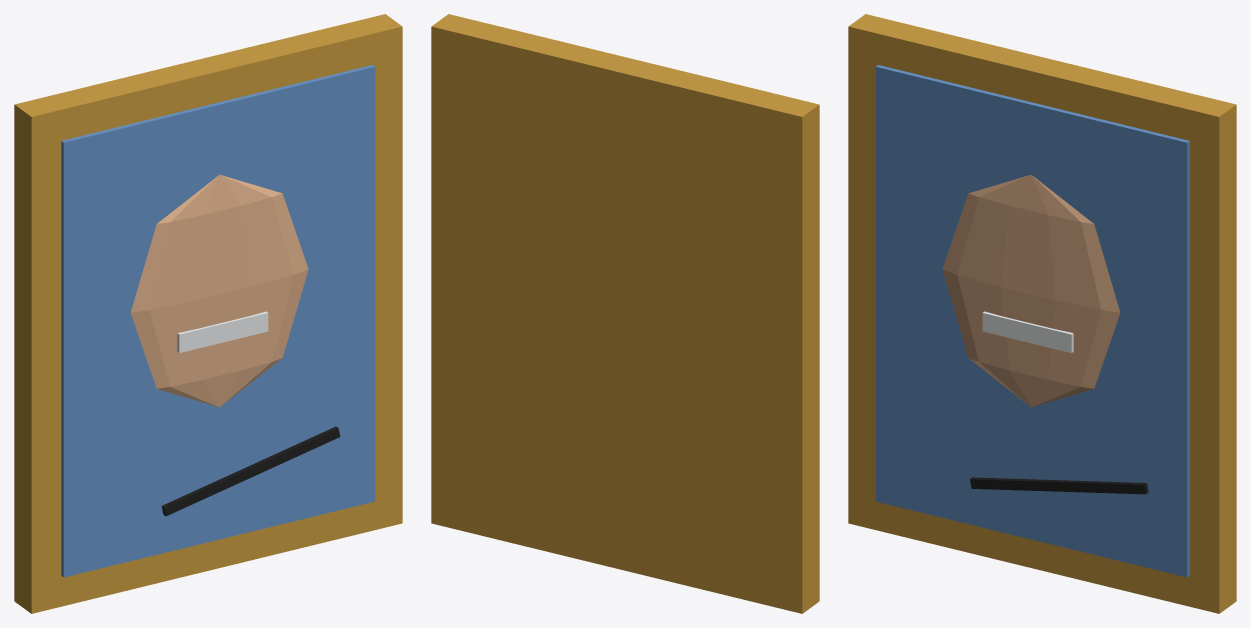
The model's file is smile_photo.glb.
3 views of the same model, side by side, from view 1: azimuth 30°, elevation 25°; view 2: azimuth 150°, elevation 25°; view 3: azimuth 330°, elevation 25° (orthographic).
Parts seen in each view (by area): view 1: photo_photo_blue, frame_photo_frame, face_photo_skin, scrawl_photo_ink, smile_dental_white; view 2: frame_photo_frame; view 3: photo_photo_blue, frame_photo_frame, face_photo_skin, scrawl_photo_ink, smile_dental_white.
Boxes of the visible parts, <box> form: photo_photo_blue: <box>61,65,375,577</box>; frame_photo_frame: <box>14,14,402,613</box>; face_photo_skin: <box>130,174,308,407</box>; scrawl_photo_ink: <box>161,426,340,516</box>; smile_dental_white: <box>177,311,268,352</box>; frame_photo_frame: <box>431,14,819,613</box>; photo_photo_blue: <box>875,65,1189,577</box>; frame_photo_frame: <box>848,14,1236,613</box>; face_photo_skin: <box>942,174,1120,407</box>; scrawl_photo_ink: <box>970,477,1148,494</box>; smile_dental_white: <box>982,311,1073,352</box>.
Size of the model in its own units: 0.25 by 0.32 by 0.028.
